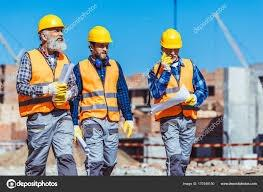Helmet: (88, 26, 112, 56), (161, 28, 182, 57)
Vest: (23, 52, 71, 110), (76, 59, 121, 120)
